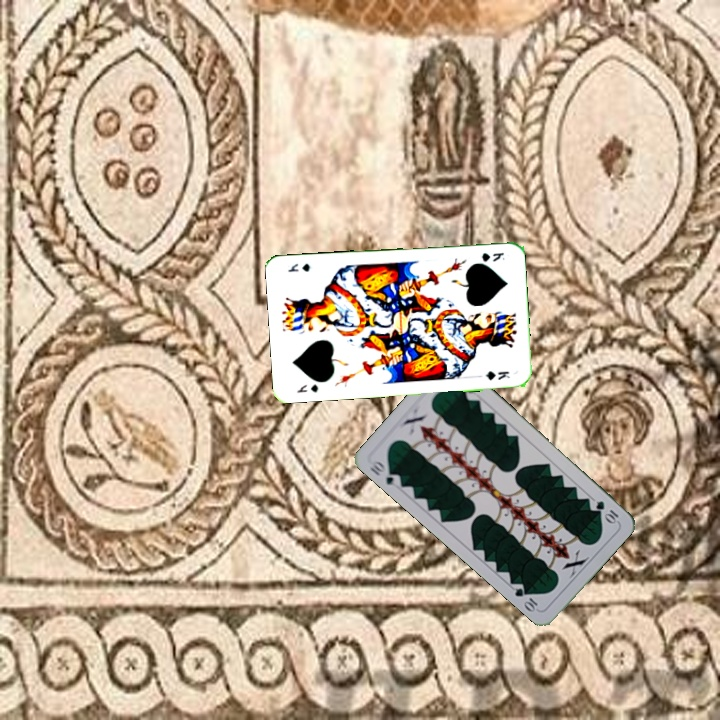G10: (365, 457, 404, 490), (592, 496, 621, 526)
GK: (478, 249, 507, 264), (293, 380, 321, 395)
